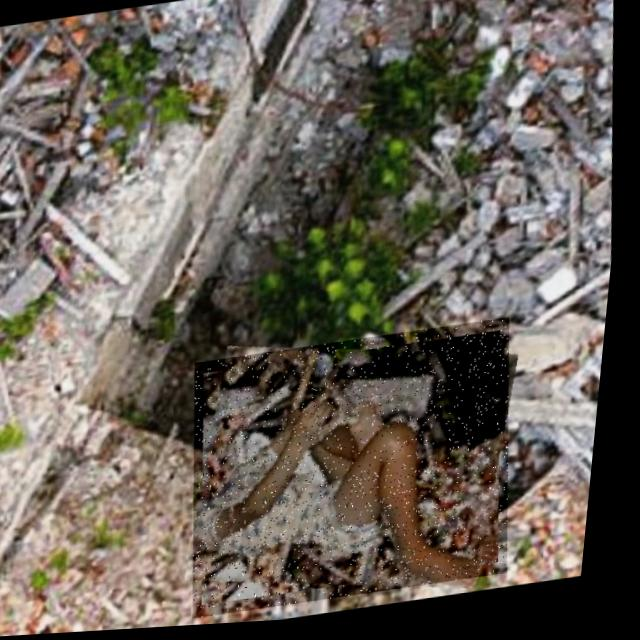Person in Rubble: (183, 323, 538, 622)
